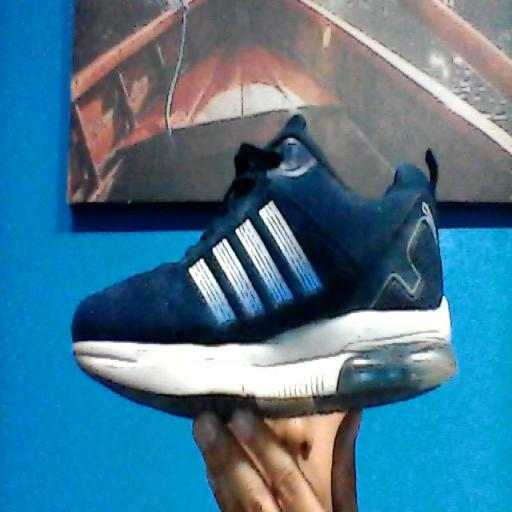shoe: (72, 115, 456, 417)
